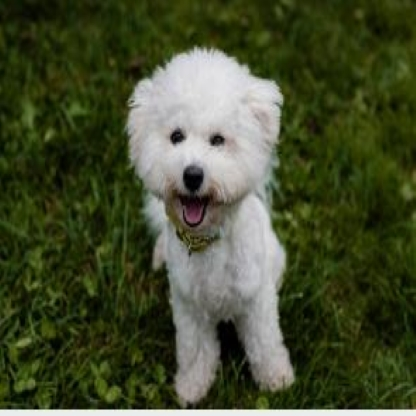maltese: (119, 42, 309, 403)
